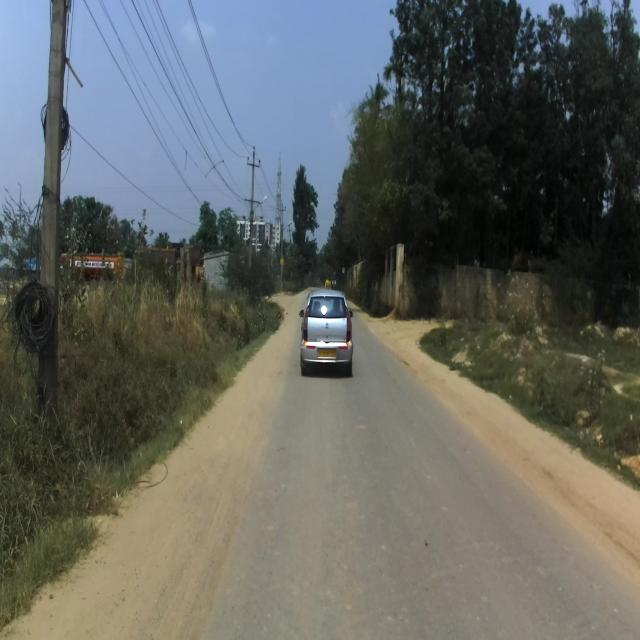car ahead at: (303, 289, 354, 377)
electric pole ahead at: (33, 0, 78, 421)
